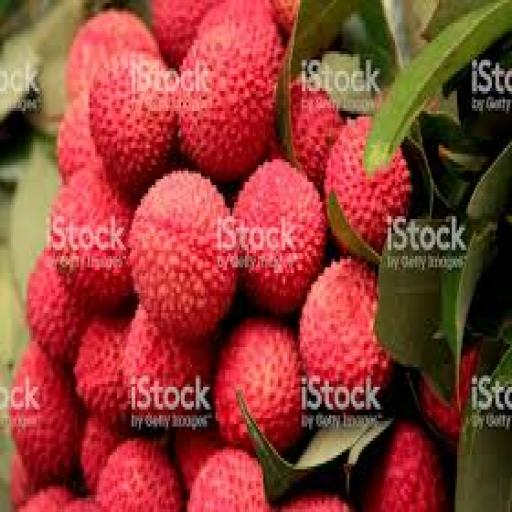lychee: (130, 171, 237, 341), (180, 20, 283, 182), (235, 160, 327, 315), (90, 52, 177, 199), (300, 259, 393, 389), (324, 117, 411, 250), (214, 319, 301, 452), (50, 171, 133, 310), (10, 342, 82, 486), (123, 308, 213, 418), (66, 9, 159, 99), (363, 421, 449, 511), (26, 251, 87, 364), (97, 439, 184, 511), (419, 345, 479, 446), (75, 319, 129, 426), (291, 80, 343, 190), (189, 450, 270, 511), (150, 0, 219, 65), (57, 94, 102, 182), (81, 416, 124, 492), (174, 427, 223, 492), (198, 0, 272, 36), (10, 453, 36, 509), (280, 493, 351, 511), (21, 487, 74, 511), (269, 0, 299, 34), (63, 498, 104, 511)
